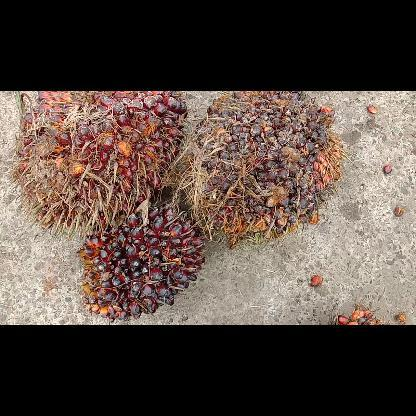Kurang masak: (190, 91, 341, 247), (80, 207, 206, 316)
TBS masak: (15, 92, 188, 233)
